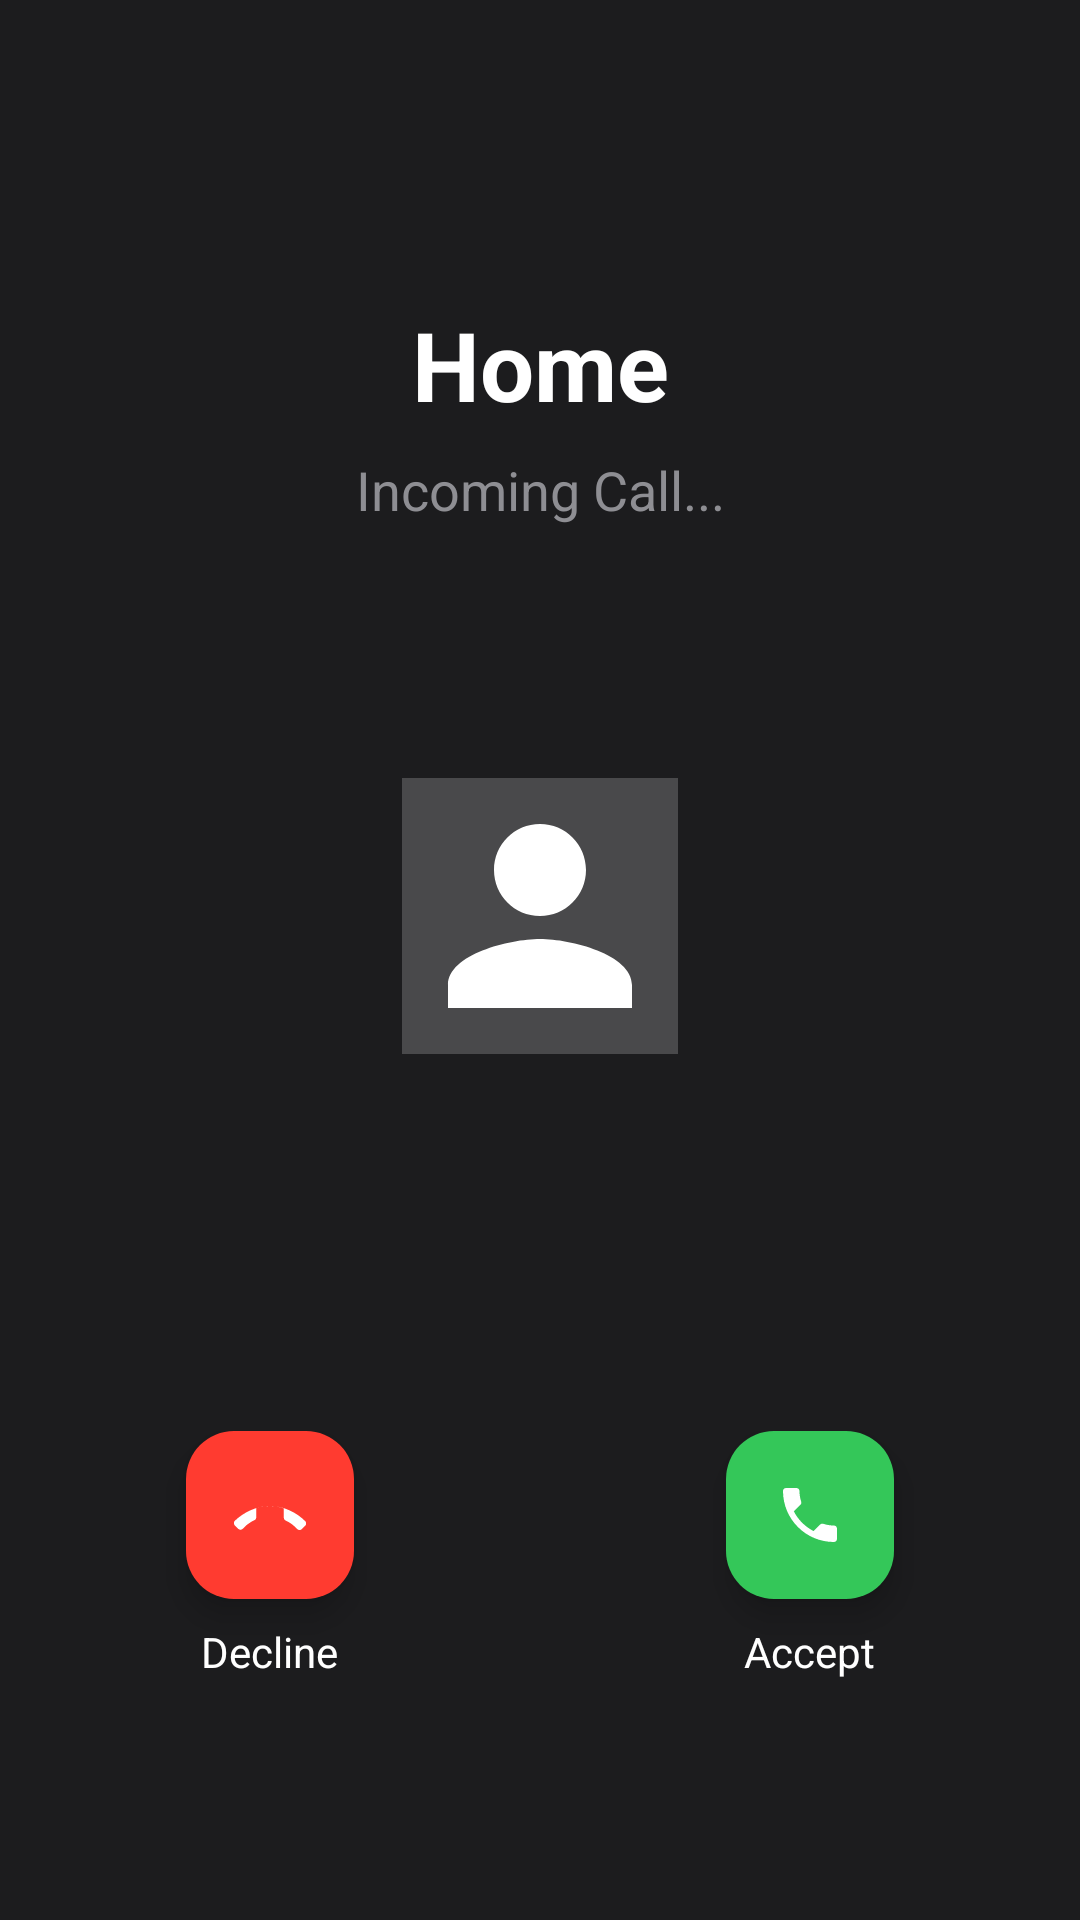

Where to tap for icons on this 1080 x 1920 app screen, as point (x, y):
call: point (810, 1515)
person: point (540, 916)
